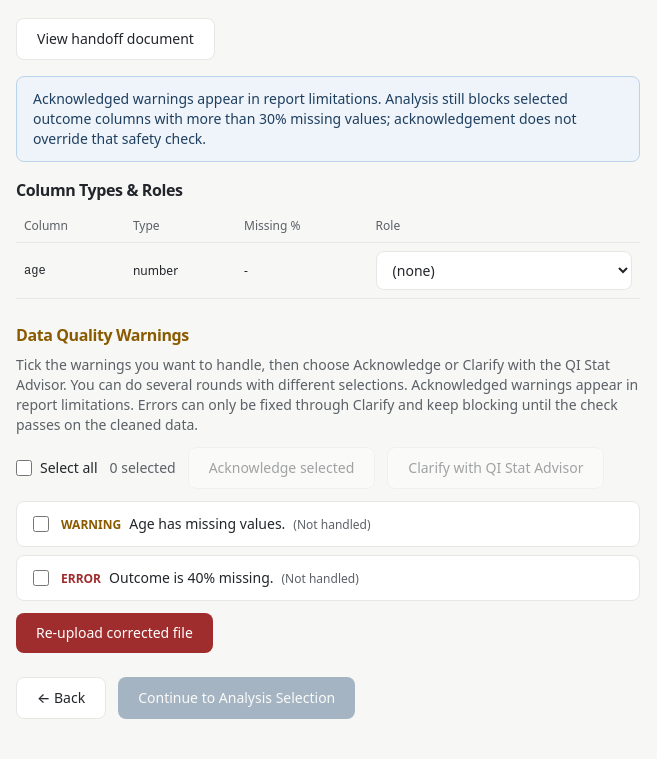
Test: DataReview › disables Acknowledge with a reason when an ERROR is selected, and Clarify creates a group
(page scrolled)
Click the checkbox labelled "Outcome is 40% missing": click(41, 578) x1=33 y1=570 x2=49 y2=586
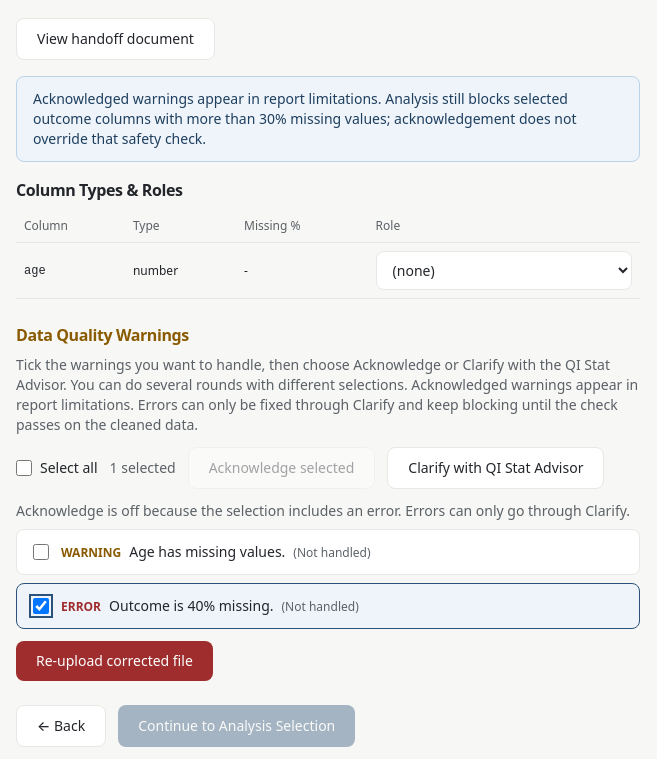
Expected: the button "Acknowledge selected" is disabled, x1=188 y1=447 x2=375 y2=489
Result: the text "Errors can only go through Clarify" is shown at x1=16 y1=501 x2=630 y2=520
Click the button "Clarify with QI Stat Advisor": click(496, 468) x1=387 y1=447 x2=604 y2=489
(page scrolled)
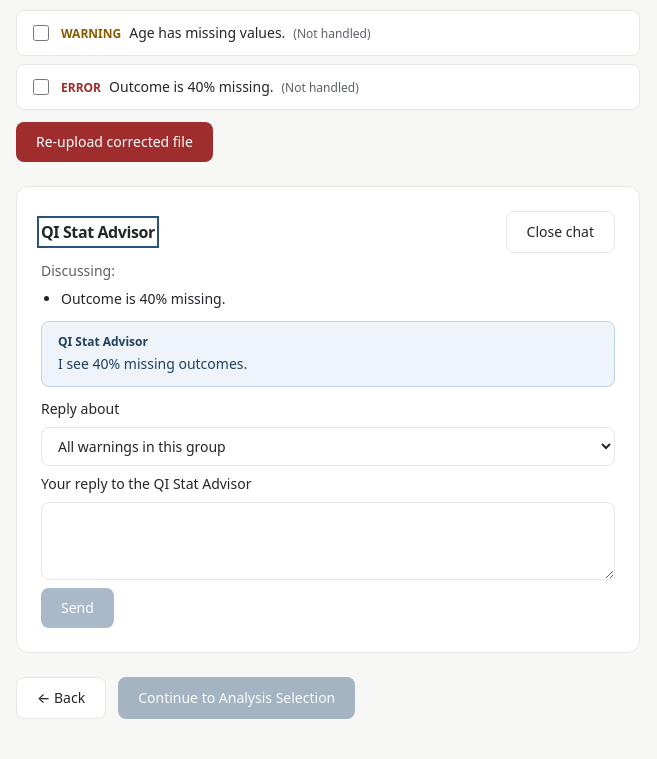
Expected: the button "Continue to Analysis Selection" is disabled, x1=118 y1=677 x2=355 y2=719
Result: the text "I see 40% missing outcomes." is shown at x1=58 y1=354 x2=247 y2=373
